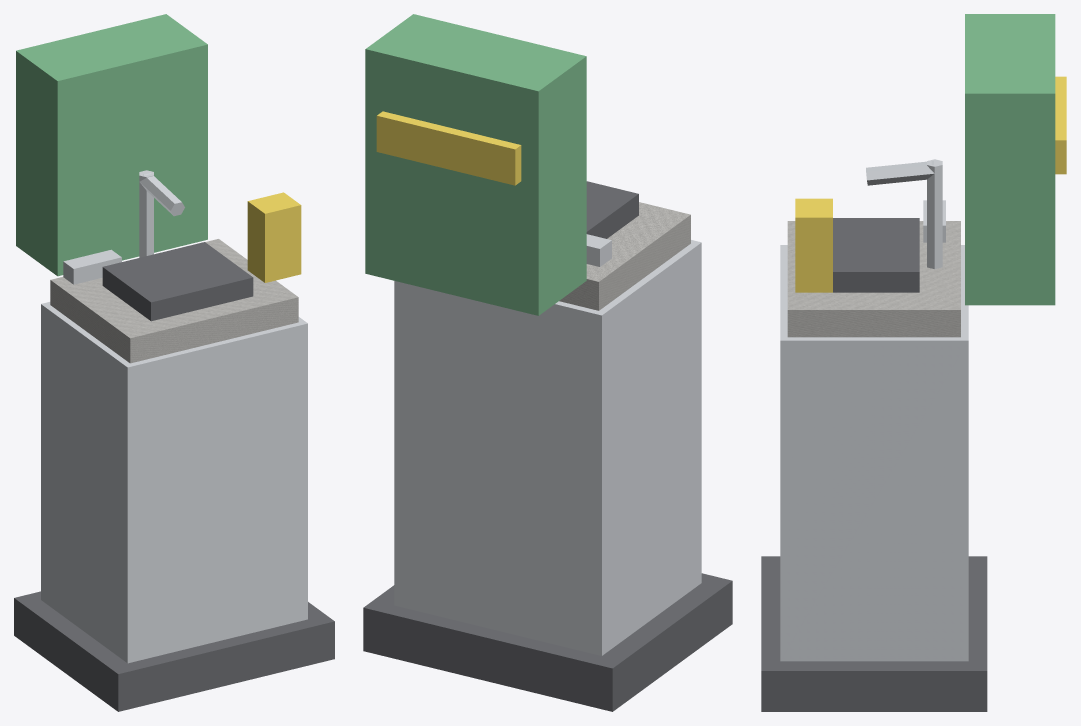
File: street-food-market-and-food-trucks-hand-wash-station-db419292.glb
3 views of the same model, side by side, from view 1: azimuth 30°, elevation 25°; view 2: azimuth 150°, elevation 25°; view 3: azimuth 270°, elevation 25° (orthographic). The views are drawn at different scales.
Visible parts, largest first — view 1: hand-wash-station-steel, hand-wash-station-leaf, hand-wash-station-charcoal, hand-wash-station-concrete, hand-wash-station-canary; view 2: hand-wash-station-steel, hand-wash-station-leaf, hand-wash-station-charcoal, hand-wash-station-concrete, hand-wash-station-canary; view 3: hand-wash-station-steel, hand-wash-station-leaf, hand-wash-station-charcoal, hand-wash-station-concrete, hand-wash-station-canary.
Boxes of the visible parts, x1,y1,x2,y2 form: hand-wash-station-steel: (41,170,307,663); hand-wash-station-leaf: (16,14,207,276); hand-wash-station-charcoal: (14,242,334,711); hand-wash-station-concrete: (50,239,298,363); hand-wash-station-canary: (247,192,301,282); hand-wash-station-steel: (394,234,701,655); hand-wash-station-leaf: (365,14,586,315); hand-wash-station-charcoal: (363,181,732,711); hand-wash-station-concrete: (559,202,690,310); hand-wash-station-canary: (376,111,521,185); hand-wash-station-steel: (780,159,968,661); hand-wash-station-leaf: (965,14,1055,305); hand-wash-station-charcoal: (761,218,987,711); hand-wash-station-concrete: (787,221,960,337); hand-wash-station-canary: (795,76,1066,292).
Size of the model in its own units: 0.7201 by 1.76 by 0.81.
5 materials, 1 textured.
